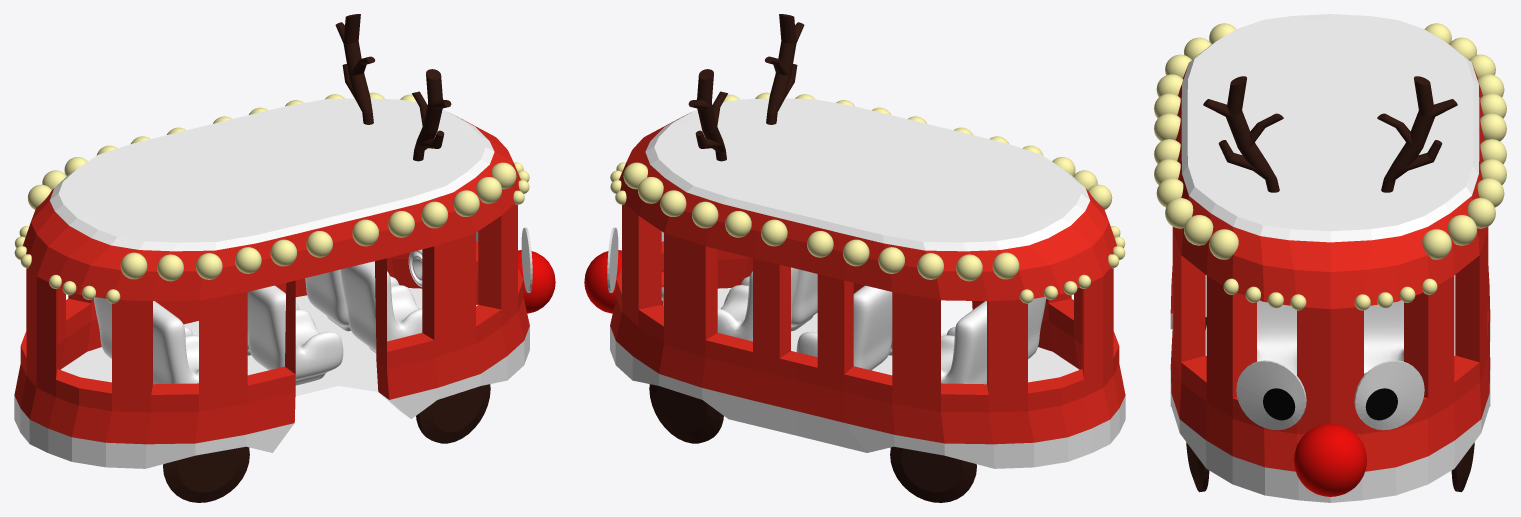
File: Santa Bus.fbx
3 views of the same model, side by side, from view 1: azimuth 30°, elevation 25°; view 2: azimuth 150°, elevation 25°; view 3: azimuth 270°, elevation 25° (orthographic). The views are drawn at different scales.
Parts seen in each view (by area): view 1: Circle, Sphere.004, Circle.001, Plane.001, Plane.002, Circle.004, Plane.003, Sphere, Circle.002; view 2: Circle, Sphere.004, Circle.001, Circle.004, Plane.003, Plane.002, Plane.001, Sphere, Circle.002; view 3: Circle, Sphere.004, Circle.002, Circle.004, Plane.001, Sphere, Circle.001.
Part boxes in pixels (left/top/right/bottom): Circle: left=14, top=98, right=529, bottom=468; Sphere.004: left=14, top=92, right=529, bottom=303; Circle.001: left=163, top=384, right=490, bottom=502; Plane.001: left=305, top=261, right=422, bottom=353; Plane.002: left=247, top=285, right=343, bottom=385; Circle.004: left=335, top=14, right=451, bottom=161; Plane.003: left=93, top=297, right=198, bottom=384; Sphere: left=518, top=250, right=555, bottom=313; Circle.002: left=476, top=227, right=532, bottom=292; Circle: left=610, top=98, right=1125, bottom=468; Sphere.004: left=610, top=92, right=1125, bottom=303; Circle.001: left=649, top=384, right=976, bottom=502; Circle.004: left=688, top=14, right=804, bottom=161; Plane.003: left=941, top=297, right=1046, bottom=384; Plane.002: left=796, top=285, right=892, bottom=370; Plane.001: left=717, top=267, right=817, bottom=341; Sphere: left=584, top=250, right=621, bottom=313; Circle.002: left=607, top=227, right=663, bottom=292; Circle: left=1170, top=14, right=1490, bottom=502; Sphere.004: left=1154, top=23, right=1506, bottom=310; Circle.002: left=1236, top=360, right=1424, bottom=430; Circle.004: left=1203, top=76, right=1457, bottom=192; Plane.001: left=1257, top=300, right=1403, bottom=375; Sphere: left=1294, top=423, right=1366, bottom=496; Circle.001: left=1186, top=317, right=1474, bottom=492.
Size of the model in its own units: 39.03 by 25.51 by 20.02.
